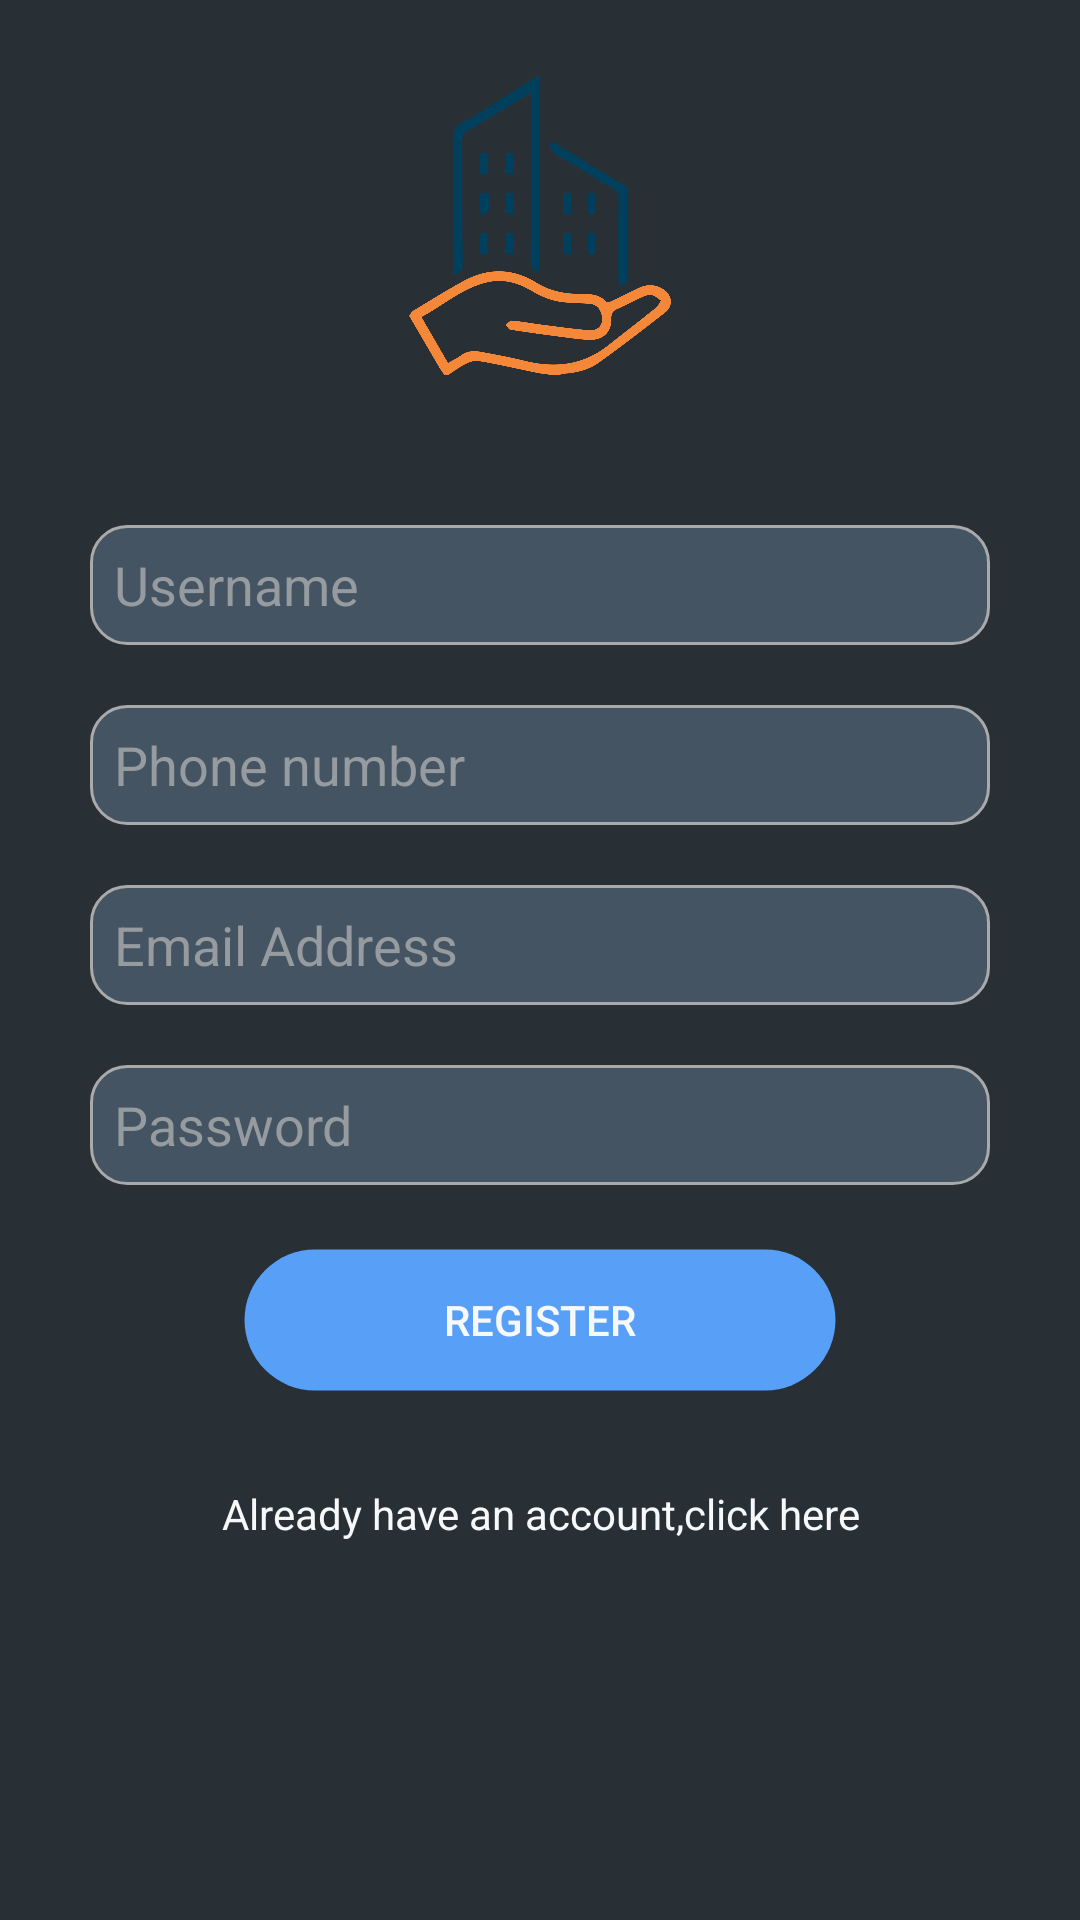

Icons on this 1080×1920 Android screen, each with its box as (x1, y1, x2, y2):
iproperty: (409, 75, 671, 375)
